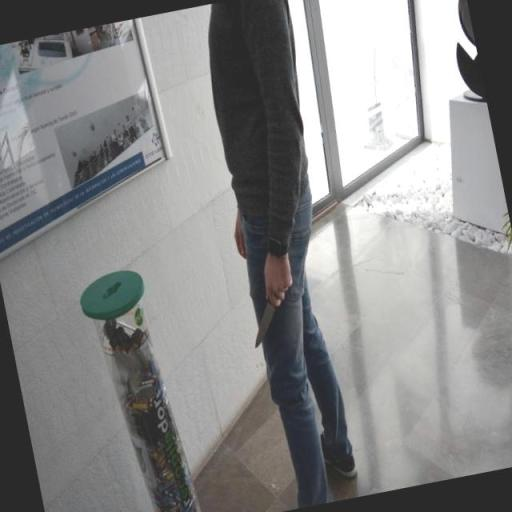knife: (242, 288, 290, 350)
